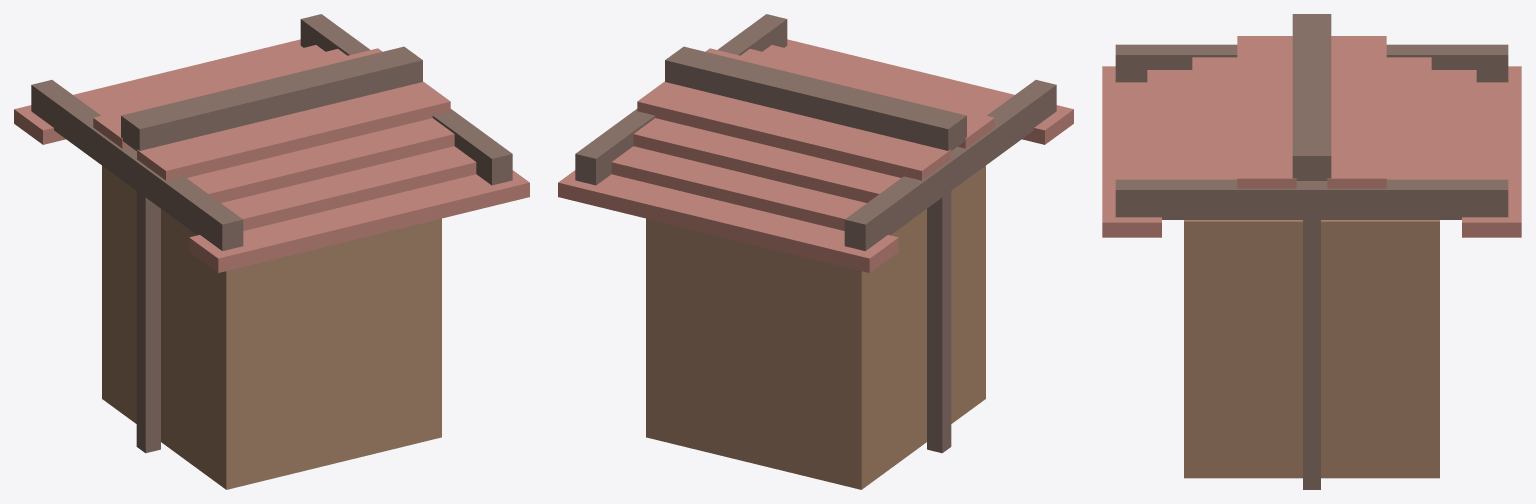
The model's file is grain_silo.glb.
3 views of the same model, side by side, from view 1: azimuth 30°, elevation 25°; view 2: azimuth 150°, elevation 25°; view 3: azimuth 270°, elevation 25° (orthographic). The views are drawn at different scales.
Visible parts, largest first — view 1: wood, roof_red, wood_dark; view 2: wood, roof_red, wood_dark; view 3: wood, roof_red, wood_dark.
Boxes of the visible parts, x1=… form: wood: x1=102, y1=166, x2=441, y2=489; roof_red: x1=14, y1=39, x2=529, y2=272; wood_dark: x1=31, y1=14, x2=512, y2=453; wood: x1=646, y1=166, x2=985, y2=489; roof_red: x1=558, y1=39, x2=1073, y2=272; wood_dark: x1=575, y1=14, x2=1056, y2=453; wood: x1=1184, y1=220, x2=1439, y2=478; roof_red: x1=1102, y1=36, x2=1521, y2=237; wood_dark: x1=1115, y1=14, x2=1508, y2=489.
Size of the model in its own units: 4.05 by 4.1 by 4.59.
